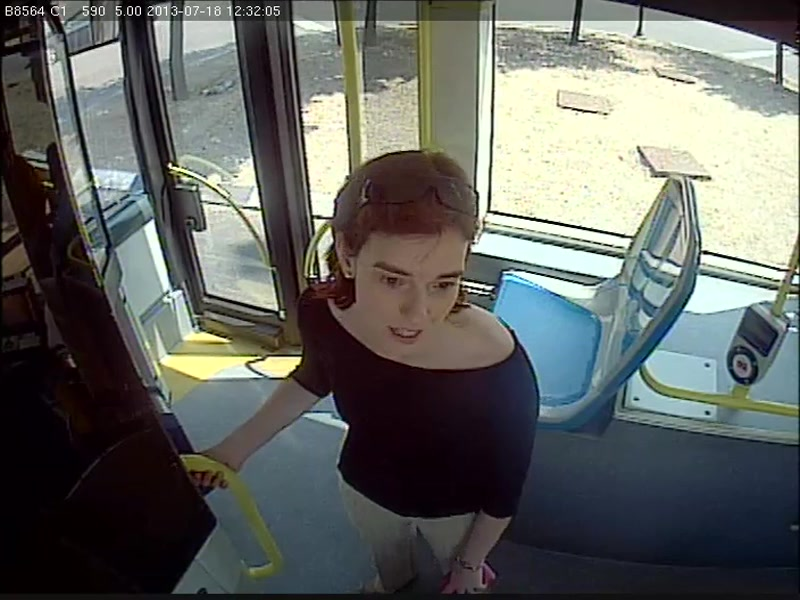Head: (319, 146, 487, 356)
